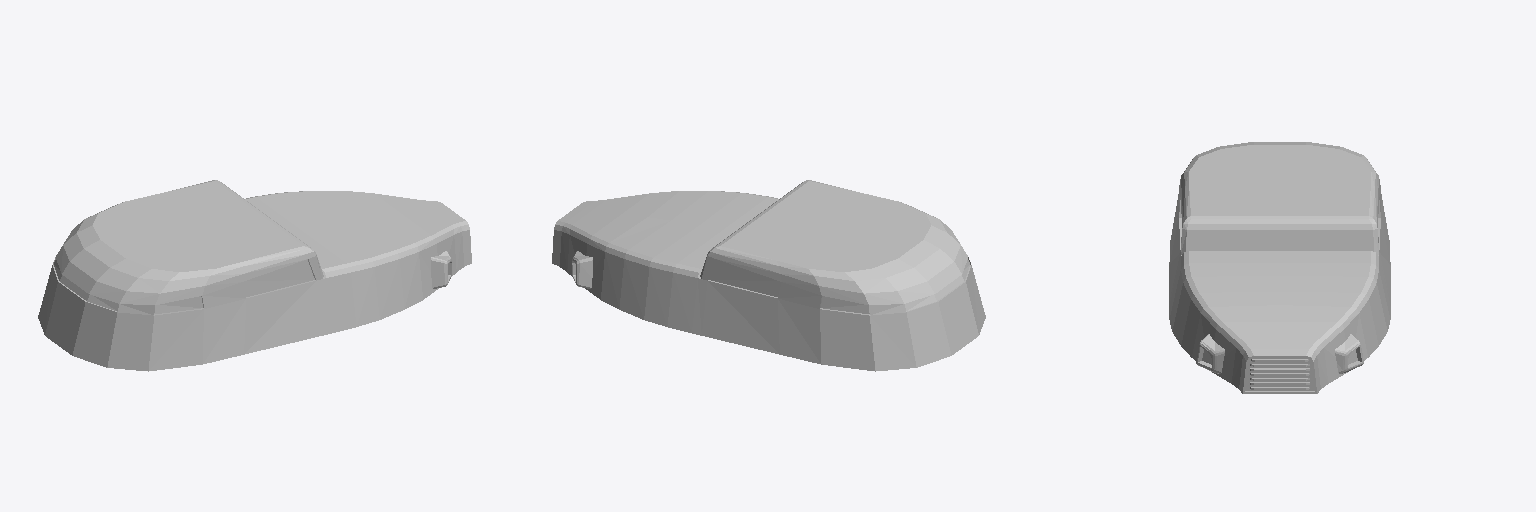
The model's file is pod-2.obj.
The picture shows the model from 3 angles: view 1: azimuth 30°, elevation 25°; view 2: azimuth 150°, elevation 25°; view 3: azimuth 270°, elevation 25°; orthographic projection.
Visible parts, largest first — view 1: pod-2_Cylinder; view 2: pod-2_Cylinder; view 3: pod-2_Cylinder.
Part boxes in pixels (bbox=[...]): pod-2_Cylinder: bbox=[38, 180, 471, 371]; pod-2_Cylinder: bbox=[552, 180, 985, 371]; pod-2_Cylinder: bbox=[1169, 142, 1390, 393].
Size of the model in its own units: 2.9 by 0.5866 by 1.41.